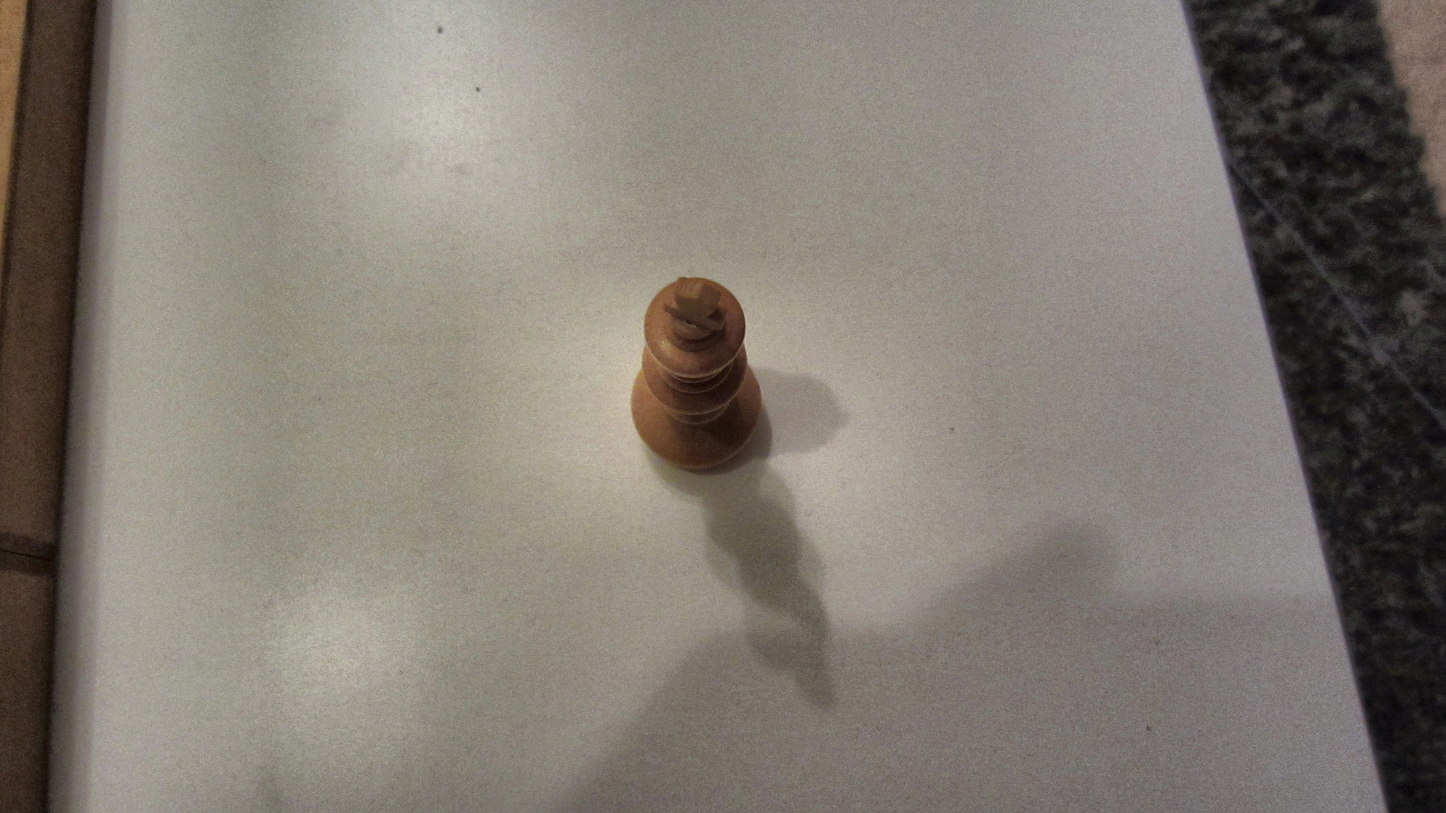white-king: (624, 272, 770, 474)
